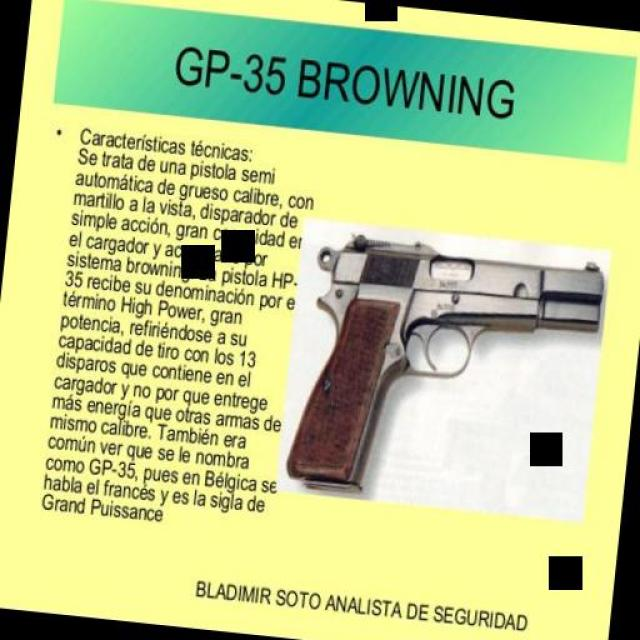gun: (286, 222, 605, 508)
